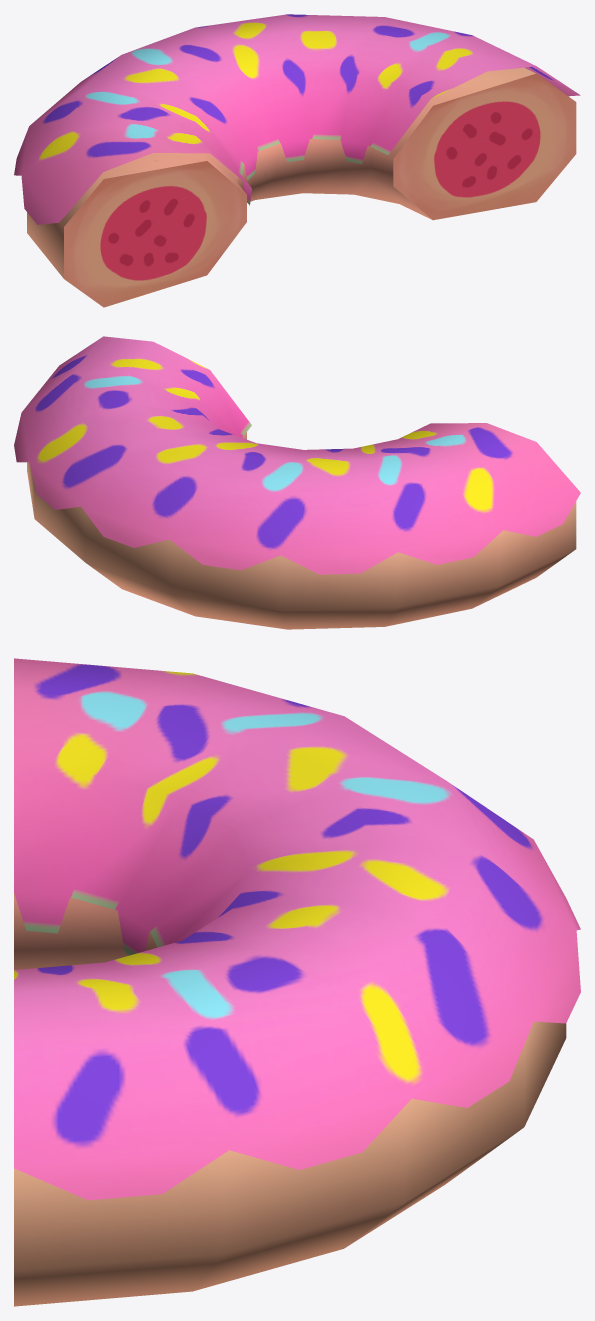
File: donut_slice.fbx
3 views of the same model, one above another, from view 1: azimuth 30°, elevation 25°; view 2: azimuth 150°, elevation 25°; view 3: azimuth 270°, elevation 25° (orthographic). The views are drawn at different scales.
Parts seen in each view (by area): view 1: donut_slice; view 2: donut_slice; view 3: donut_slice.
Boxes of the visible parts, box(x1,y1,x2,y2) form: donut_slice: box(14, 14, 580, 307); donut_slice: box(14, 336, 580, 629); donut_slice: box(14, 658, 580, 1306).
Bounding box in the file's own units: 61.59 × 15.97 × 30.79.
